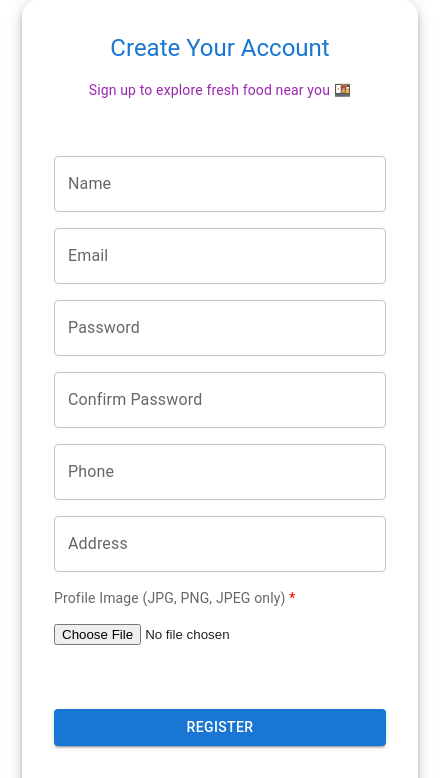
Test case: RegisterForm › shows error messages when required fields are empty
Click the button "Register": (220, 727) [54, 709, 386, 746]
(page scrolled)
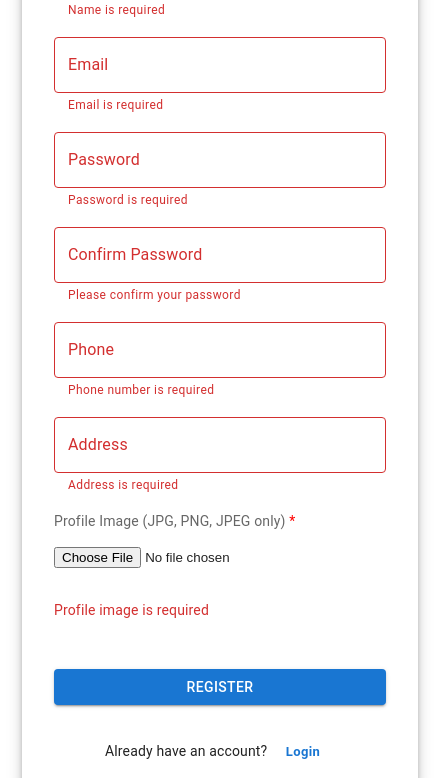
Expected: the text "Name is required" is shown, [68, 3, 165, 17]
Expected: the text "Email is required" is shown, [68, 98, 163, 112]
Expected: the text "Password is required" is shown, [68, 193, 188, 207]
